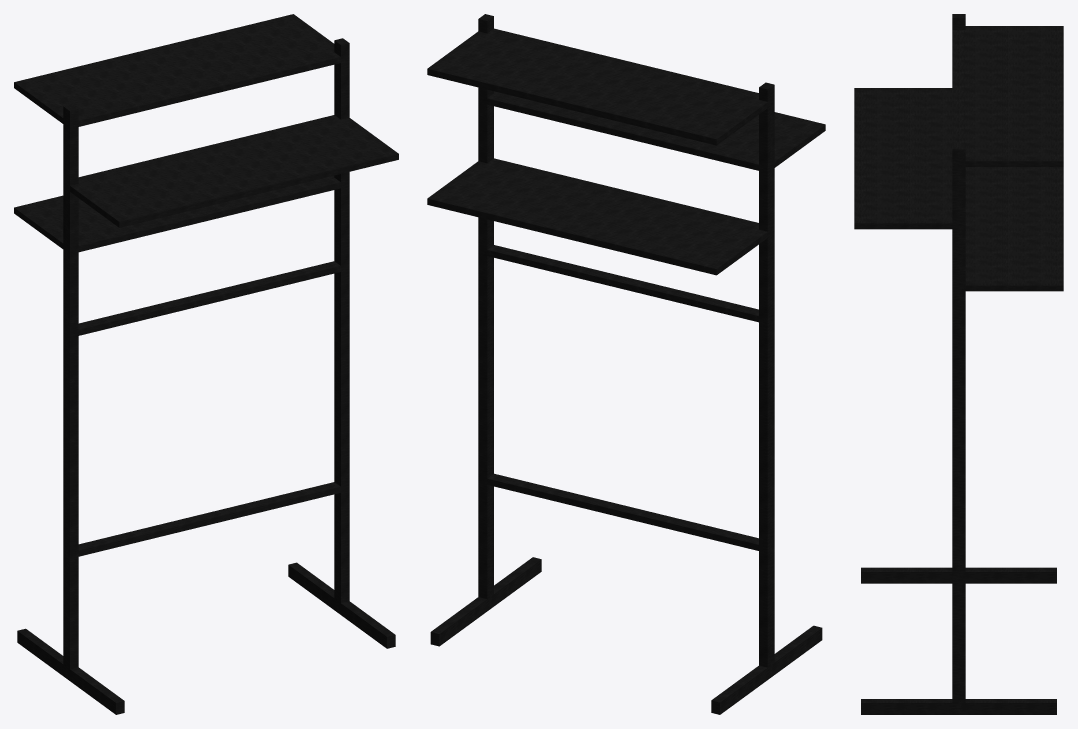
The model's file is czarny stojak011.fbx.
3 renders of one model, left to right at view 1: azimuth 30°, elevation 25°; view 2: azimuth 150°, elevation 25°; view 3: azimuth 270°, elevation 25°, orthographic. The views are drawn at different scales.
Visible parts, largest first — view 1: czarny stojak011; view 2: czarny stojak011; view 3: czarny stojak011.
Boxes of the visible parts, bbox=[...] form: czarny stojak011: bbox=[14, 14, 398, 714]; czarny stojak011: bbox=[427, 14, 825, 714]; czarny stojak011: bbox=[854, 14, 1063, 714].
Bounding box in the file's own units: 38.58 × 75.2 × 25.2.
